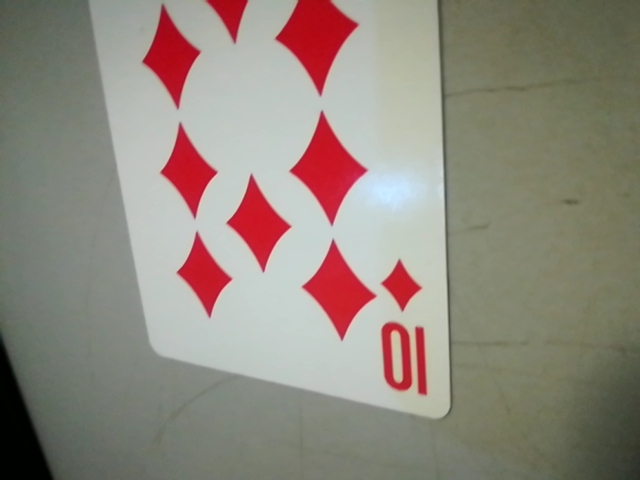fk 10: (372, 253, 442, 413)
